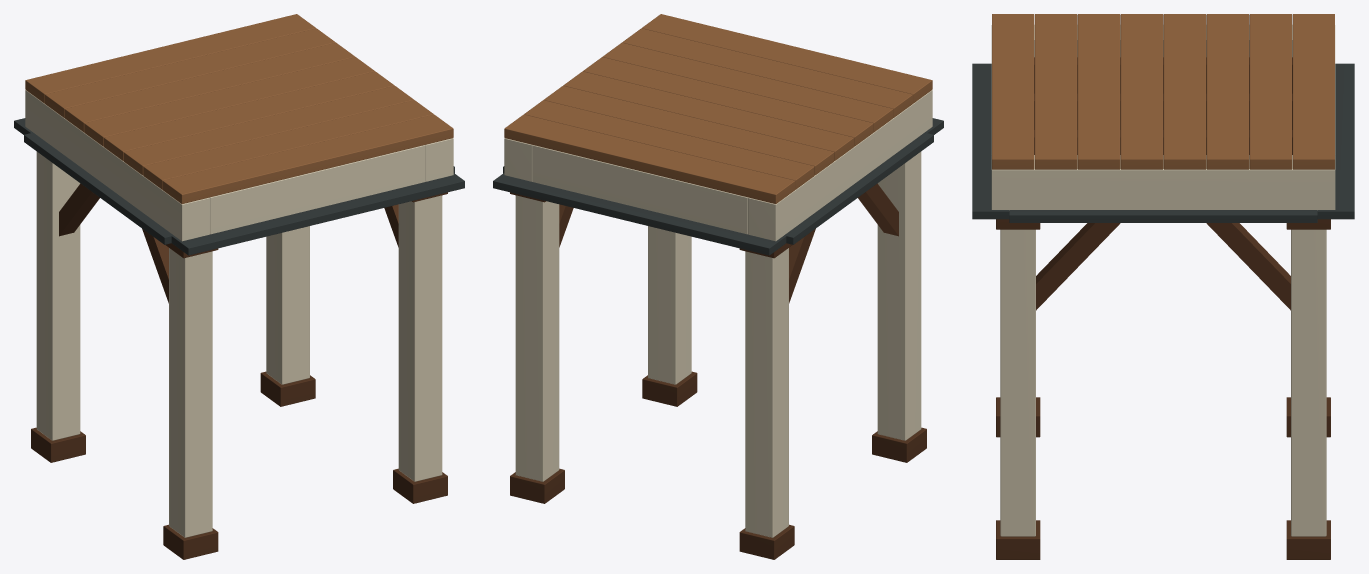
Rendered from rpg-mansion-stair-square-supported-landing-01.glb.
3 renders of one model, left to right at view 1: azimuth 30°, elevation 25°; view 2: azimuth 150°, elevation 25°; view 3: azimuth 270°, elevation 25°, orthographic. The views are drawn at different scales.
Parts seen in each view (by area): view 1: rpg-mansion-stair-square-supported-landing-01; view 2: rpg-mansion-stair-square-supported-landing-01; view 3: rpg-mansion-stair-square-supported-landing-01.
Part boxes in pixels (x1=…): rpg-mansion-stair-square-supported-landing-01: x1=14, y1=14, x2=464, y2=559; rpg-mansion-stair-square-supported-landing-01: x1=493, y1=14, x2=943, y2=559; rpg-mansion-stair-square-supported-landing-01: x1=972, y1=14, x2=1354, y2=559.
Size of the model in its own units: 1.24 by 1.5 by 1.29.
